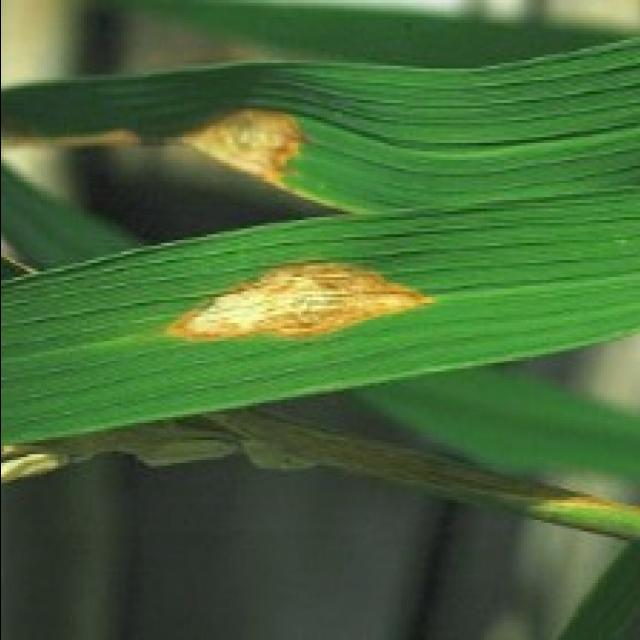Unhealthy: (163, 262, 443, 341), (174, 108, 367, 213), (0, 126, 141, 149)
